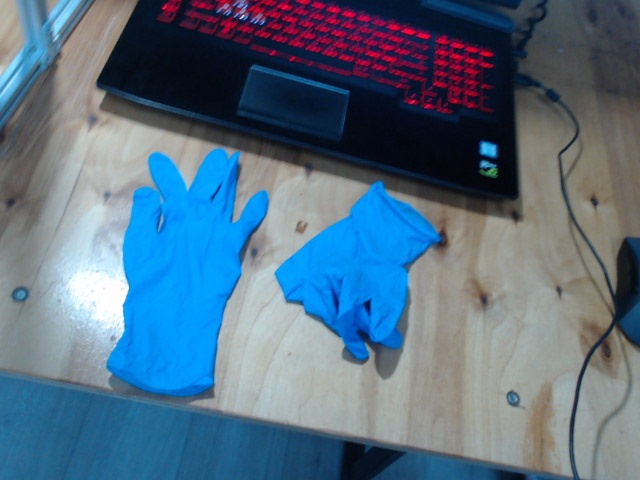medical_glove: (109, 149, 270, 394), (275, 180, 441, 363)
